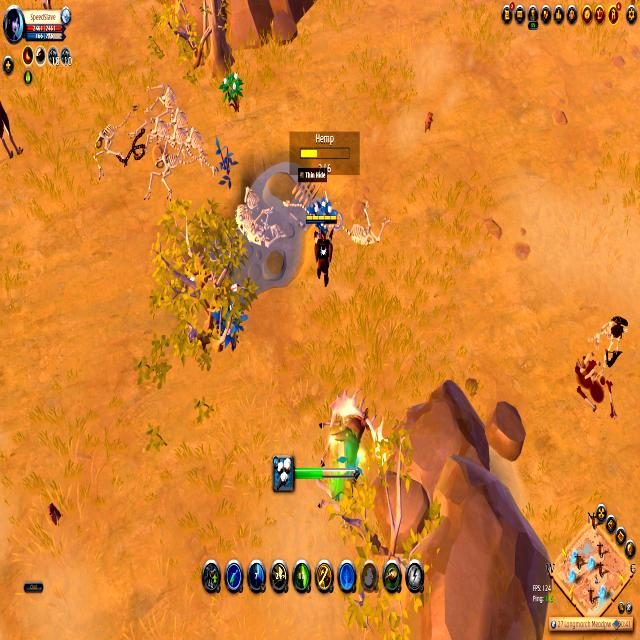hide: (313, 196, 335, 236), (222, 69, 243, 107)
mob: (319, 383, 379, 482)
ore: (586, 306, 630, 369), (0, 93, 23, 163)
red: (308, 207, 337, 286)
